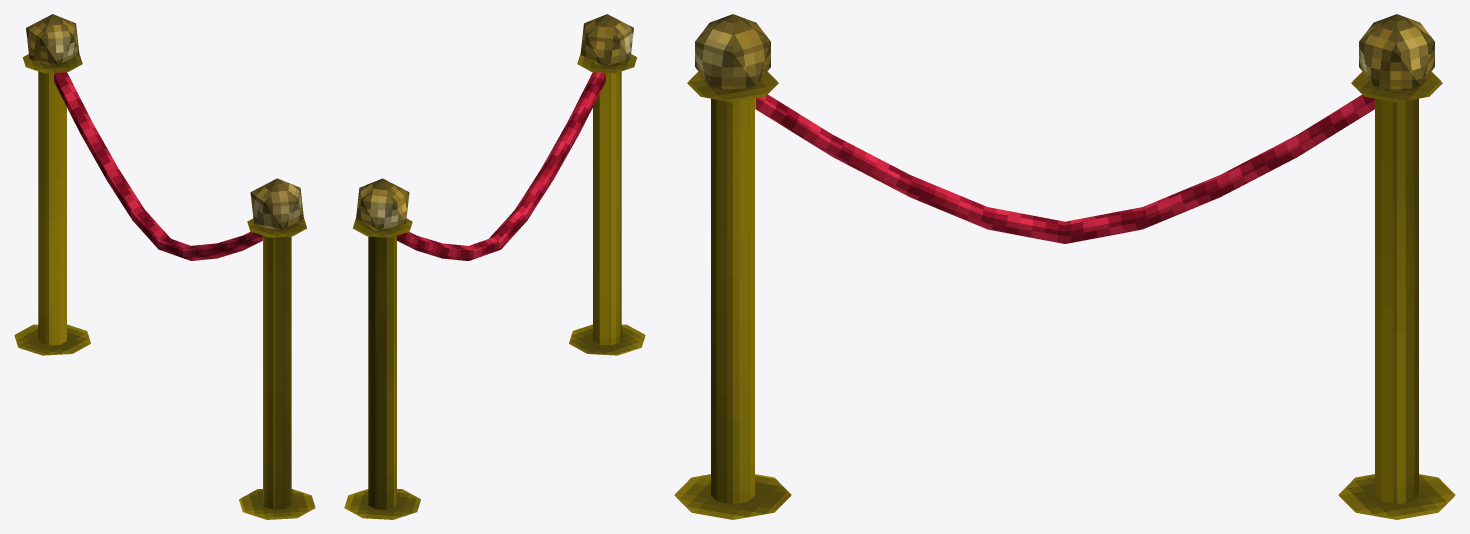
The model's file is barrier.fbx.
The picture shows the model from 3 angles, left to right: view 1: azimuth 30°, elevation 25°; view 2: azimuth 150°, elevation 25°; view 3: azimuth 270°, elevation 25°; orthographic projection. The views are drawn at different scales.
Visible parts, largest first — view 1: Barriers; view 2: Barriers; view 3: Barriers.
Boxes of the visible parts, bbox=[...] form: Barriers: bbox=[14, 14, 315, 519]; Barriers: bbox=[344, 14, 645, 519]; Barriers: bbox=[674, 14, 1455, 519].
Size of the model in its own units: 26 by 117 by 173.
